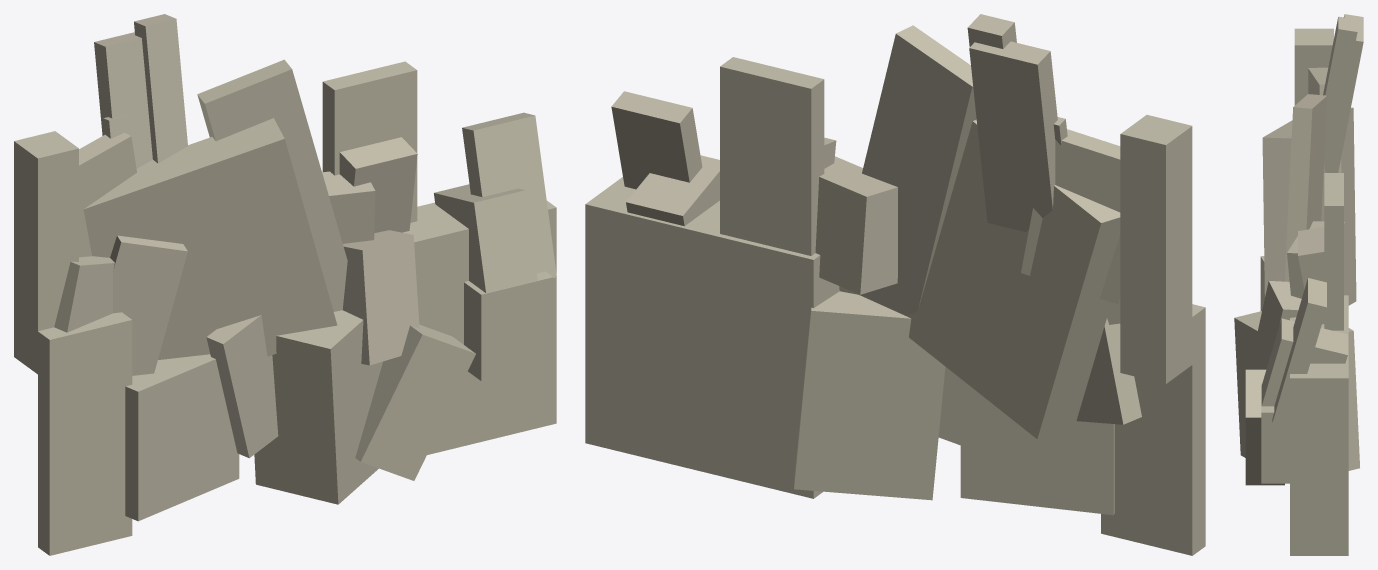
File: p_BigBlocker.fbx
3 renders of one model, left to right at view 1: azimuth 30°, elevation 25°; view 2: azimuth 150°, elevation 25°; view 3: azimuth 270°, elevation 25°, orthographic. The views are drawn at different scales.
Visible parts, largest first — view 1: BigBlock__4_, BigBlock__2_, BigBlock, BigBlock__12_, BigBlock__1_, BigBlock__5_, BigBlock__6_, BigBlock__17_, BigBlock__3_, BigBlock__13_, BigBlock__10_, BigBlock__21_ (+9 smaller); view 2: BigBlock__1_, BigBlock__4_, BigBlock, BigBlock__17_, BigBlock__5_, BigBlock__3_, BigBlock__2_, BigBlock__12_, BigBlock__18_, BigBlock__8_, BigBlock__21_, BigBlock__14_ (+4 smaller); view 3: BigBlock__1_, BigBlock__4_, BigBlock__17_, BigBlock, BigBlock__21_, BigBlock__3_, BigBlock__19_, BigBlock__9_, BigBlock__13_, BigBlock__6_, BigBlock__5_, BigBlock__10_ (+5 smaller).
Boxes of the visible parts, box(x1,y1,x2,y2) form: BigBlock__4_: box(83, 118, 337, 359); BigBlock__2_: box(38, 312, 132, 555); BigBlock: box(254, 310, 382, 504); BigBlock__12_: box(125, 354, 239, 521); BigBlock__1_: box(403, 200, 556, 454); BigBlock__5_: box(14, 131, 78, 374); BigBlock__6_: box(355, 324, 475, 480); BigBlock__17_: box(197, 59, 347, 311); BigBlock__3_: box(322, 61, 417, 222); BigBlock__13_: box(342, 230, 419, 365); BigBlock__10_: box(464, 271, 553, 380); BigBlock__21_: box(462, 112, 556, 277); BigBlock__1_: box(585, 177, 839, 498); BigBlock__4_: box(907, 119, 1120, 439); BigBlock: box(794, 291, 945, 500); BigBlock__17_: box(859, 25, 976, 316); BigBlock__5_: box(1120, 115, 1192, 383); BigBlock__3_: box(720, 57, 824, 255); BigBlock__2_: box(1101, 304, 1205, 555); BigBlock__12_: box(960, 379, 1114, 515); BigBlock__18_: box(969, 41, 1057, 231); BigBlock__8_: box(815, 156, 897, 294); BigBlock__21_: box(611, 91, 702, 189); BigBlock__14_: box(1021, 129, 1120, 304); BigBlock__1_: box(1290, 295, 1348, 555); BigBlock__4_: box(1262, 107, 1356, 305); BigBlock__17_: box(1284, 94, 1327, 281); BigBlock: box(1234, 311, 1359, 470); BigBlock__21_: box(1272, 278, 1326, 426); BigBlock__3_: box(1324, 173, 1343, 330); BigBlock__19_: box(1323, 16, 1357, 171); BigBlock__9_: box(1261, 318, 1347, 406); BigBlock__13_: box(1250, 281, 1301, 369); BigBlock__6_: box(1245, 369, 1284, 485); BigBlock__5_: box(1294, 28, 1333, 105); BigBlock__10_: box(1261, 383, 1289, 483).
Bounding box in the file's own units: 2500 × 2171 × 660.
